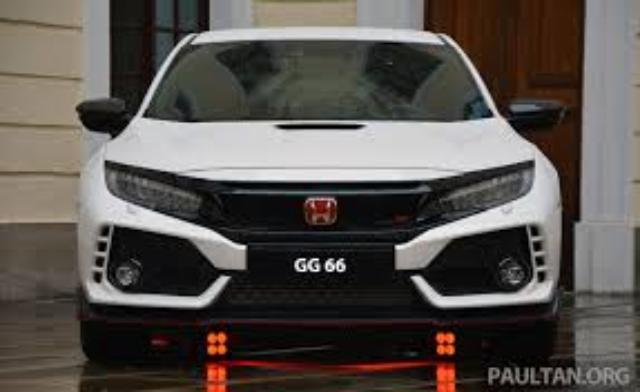License_Plate: (239, 243, 399, 290)
car: (65, 20, 576, 350)
